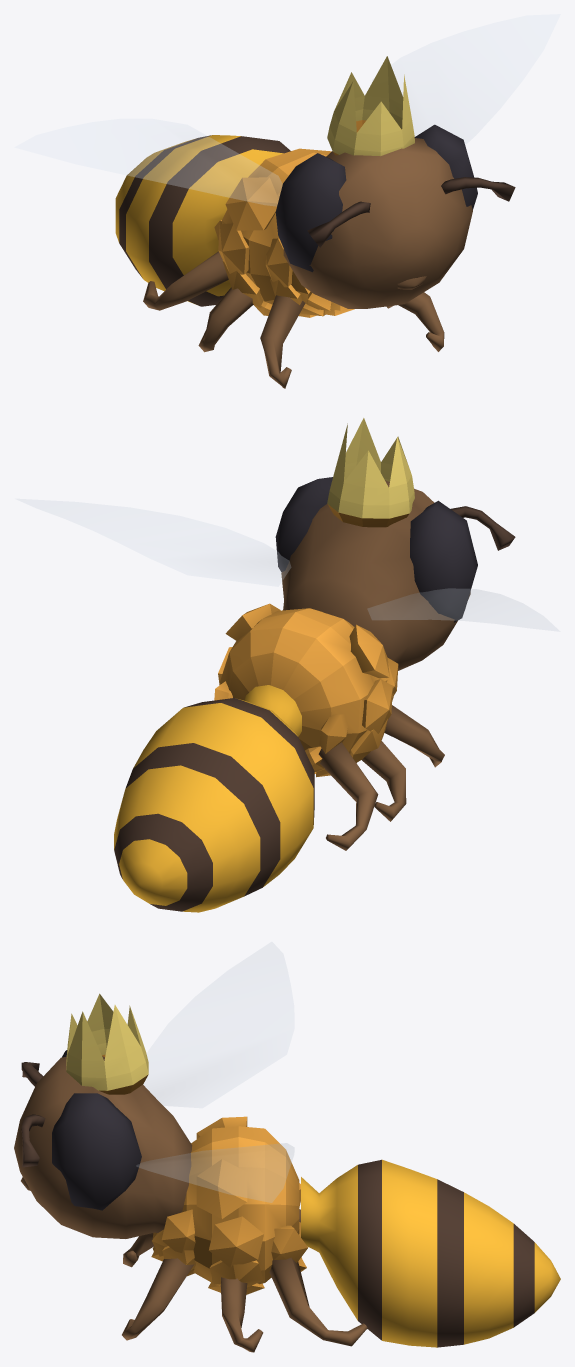
Rendered from queen.glb.
3 renders of one model, top to bottom at view 1: azimuth 30°, elevation 25°; view 2: azimuth 150°, elevation 25°; view 3: azimuth 270°, elevation 25°, orthographic.
Parts seen in each view (by area): view 1: queen_body, wing_R, wing_L; view 2: queen_body, wing_R, wing_L; view 3: queen_body, wing_L, wing_R.
Boxes of the visible parts, x1,y1,x2,y2 form: queen_body: [115, 56, 515, 388]; wing_R: [372, 14, 560, 144]; wing_L: [15, 119, 282, 206]; queen_body: [114, 418, 515, 912]; wing_R: [16, 499, 290, 586]; wing_L: [367, 588, 559, 631]; queen_body: [14, 993, 560, 1352]; wing_L: [143, 942, 294, 1107]; wing_R: [136, 1143, 294, 1202].
Size of the model in its own units: 1.19 by 0.7287 by 1.05.
